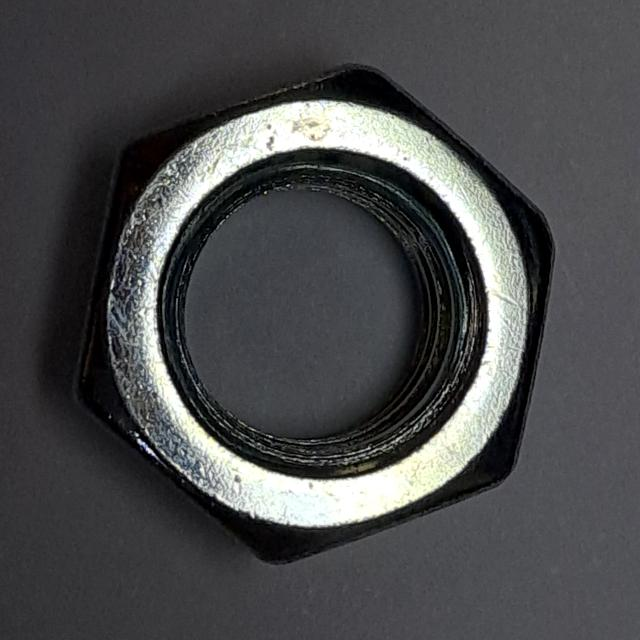Excellent: (51, 51, 570, 579)
